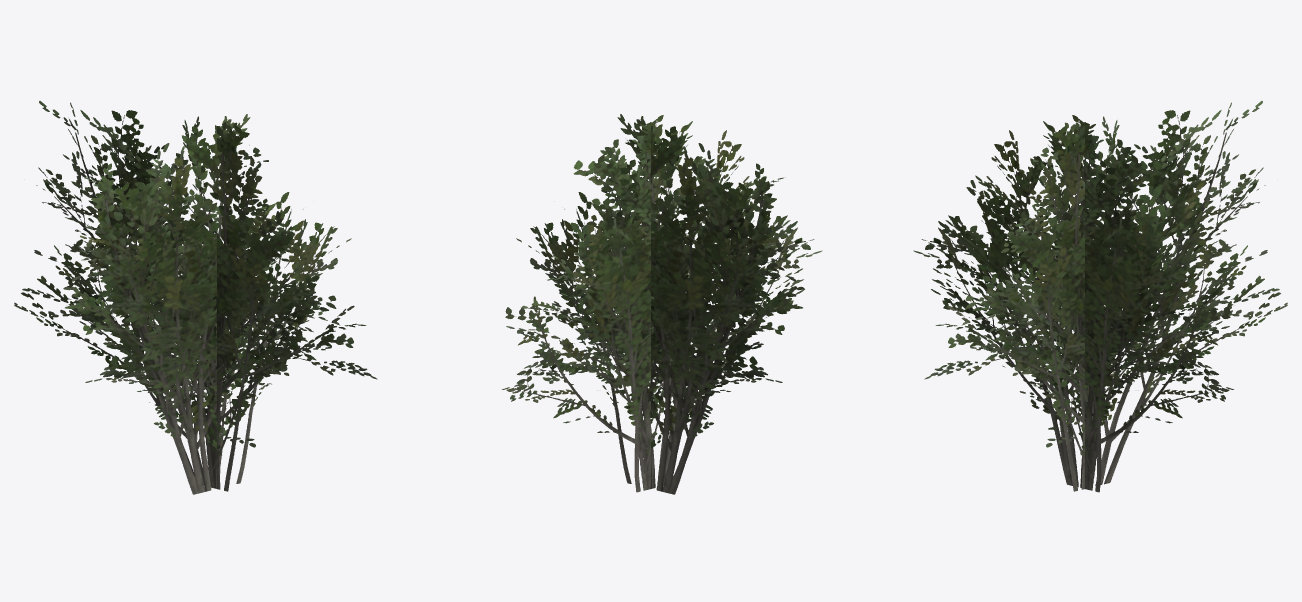
File: hloh_3_daleko.glb
3 renders of one model, left to right at view 1: azimuth 30°, elevation 25°; view 2: azimuth 150°, elevation 25°; view 3: azimuth 270°, elevation 25°, orthographic.
Parts seen in each view (by area): view 1: hloh_3_daleko; view 2: hloh_3_daleko; view 3: hloh_3_daleko.
Boxes of the visible parts, x1=… form: hloh_3_daleko: x1=14, y1=101, x2=377, y2=494; hloh_3_daleko: x1=502, y1=114, x2=822, y2=494; hloh_3_daleko: x1=913, y1=101, x2=1287, y2=492.
Size of the model in its own units: 3.9 by 3.46 by 3.38.
3 materials, 3 textured.
